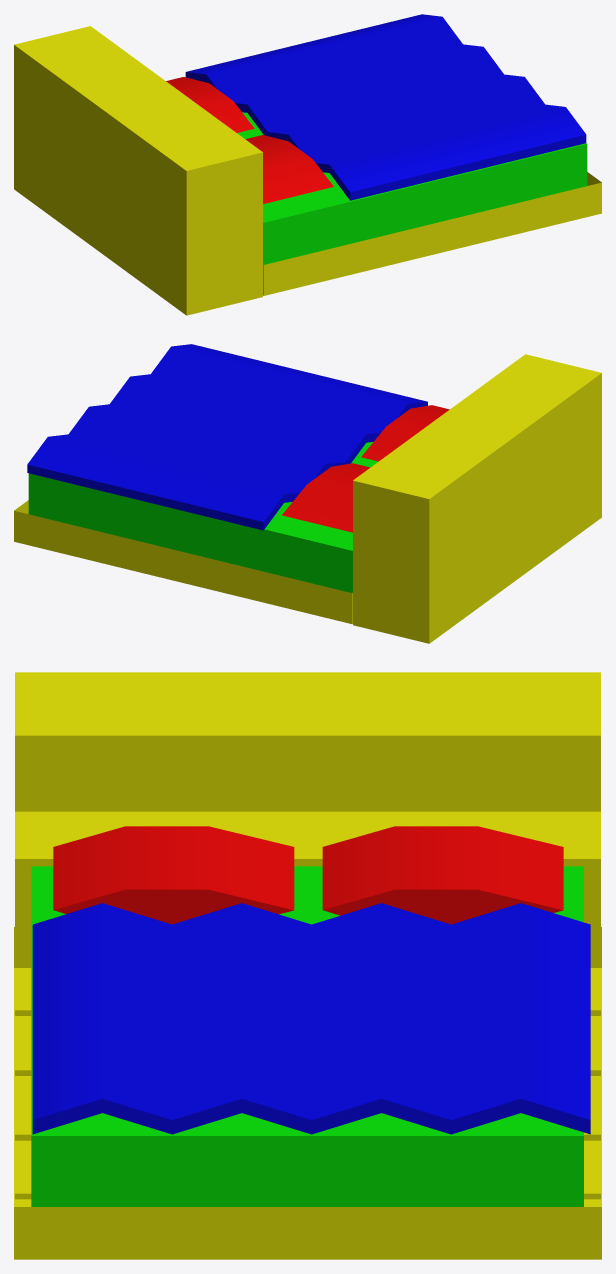
File: BedJamesWen2.fbx
3 renders of one model, top to bottom at view 1: azimuth 30°, elevation 25°; view 2: azimuth 150°, elevation 25°; view 3: azimuth 270°, elevation 25°, orthographic. The views are drawn at different scales.
Visible parts, largest first — view 1: pCube2, pCube10, pCube7, pCube1, pCube8, pCube11; view 2: pCube2, pCube10, pCube7, pCube1, pCube11, pCube8; view 3: pCube10, pCube2, pCube7, pCube1, pCube11, pCube8, pCube3, pCube12, pCube13, pCube14.
Part boxes in pixels (<box>): pCube2: <box>14,26,262,315</box>; pCube10: <box>185,14,586,200</box>; pCube7: <box>237,112,587,264</box>; pCube1: <box>263,172,601,295</box>; pCube8: <box>245,135,333,203</box>; pCube11: <box>166,77,254,132</box>; pCube2: <box>353,354,601,643</box>; pCube10: <box>27,344,427,530</box>; pCube7: <box>28,442,378,592</box>; pCube1: <box>14,500,352,623</box>; pCube11: <box>282,463,370,532</box>; pCube8: <box>361,405,449,461</box>; pCube10: <box>32,903,590,1134</box>; pCube2: <box>15,672,600,926</box>; pCube7: <box>31,866,583,1206</box>; pCube1: <box>14,927,601,1259</box>; pCube11: <box>322,826,563,924</box>; pCube8: <box>53,826,294,924</box>; pCube3: <box>15,1165,600,1199</box>; pCube12: <box>15,1106,600,1140</box>; pCube13: <box>15,1042,600,1075</box>; pCube14: <box>15,982,600,1015</box>.
Size of the model in its own units: 5.42 by 1.81 by 3.92.
